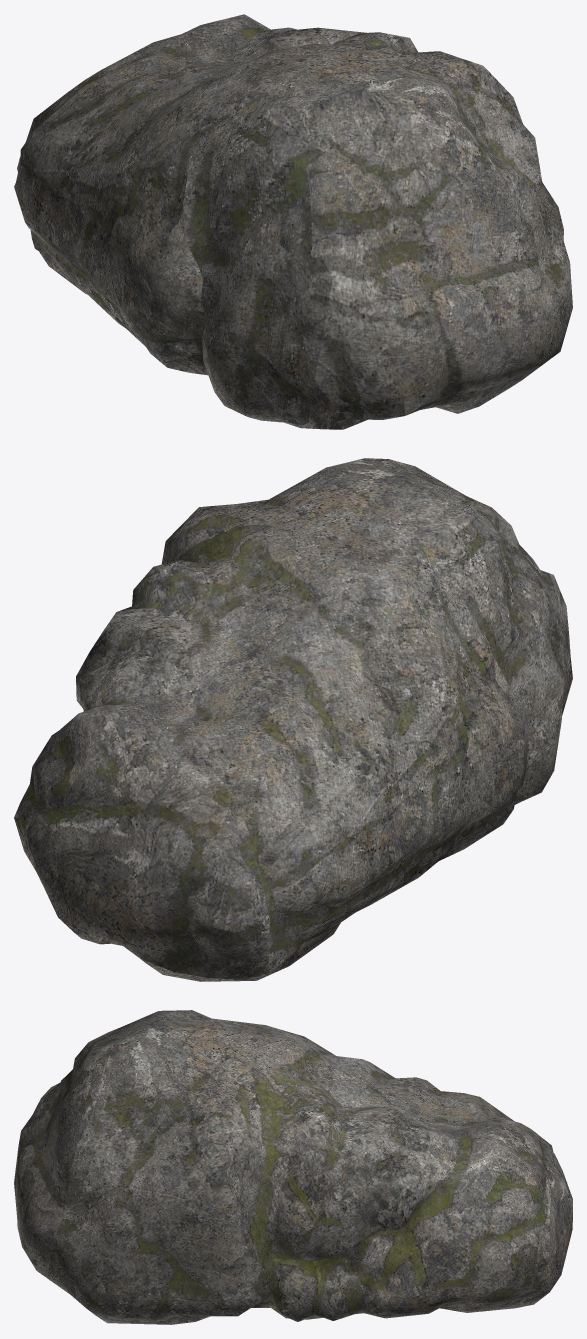
File: Rock02.FBX
3 views of the same model, one above another, from view 1: azimuth 30°, elevation 25°; view 2: azimuth 150°, elevation 25°; view 3: azimuth 270°, elevation 25° (orthographic). The views are drawn at different scales.
Parts seen in each view (by area): view 1: LV_TurtleLake_Rock_GoblinRock02_SM_EYE; view 2: LV_TurtleLake_Rock_GoblinRock02_SM_EYE; view 3: LV_TurtleLake_Rock_GoblinRock02_SM_EYE.
Part boxes in pixels (left/top/right/bottom): LV_TurtleLake_Rock_GoblinRock02_SM_EYE: left=14, top=14, right=572, bottom=429; LV_TurtleLake_Rock_GoblinRock02_SM_EYE: left=14, top=458, right=572, bottom=981; LV_TurtleLake_Rock_GoblinRock02_SM_EYE: left=14, top=1010, right=572, bottom=1324.
Bounding box in the file's own units: 234 × 200 × 385.
